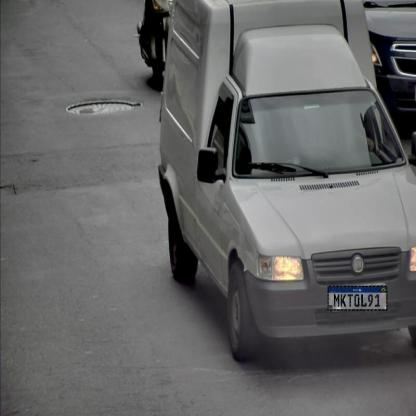PlacaM: (328, 286, 388, 310)
